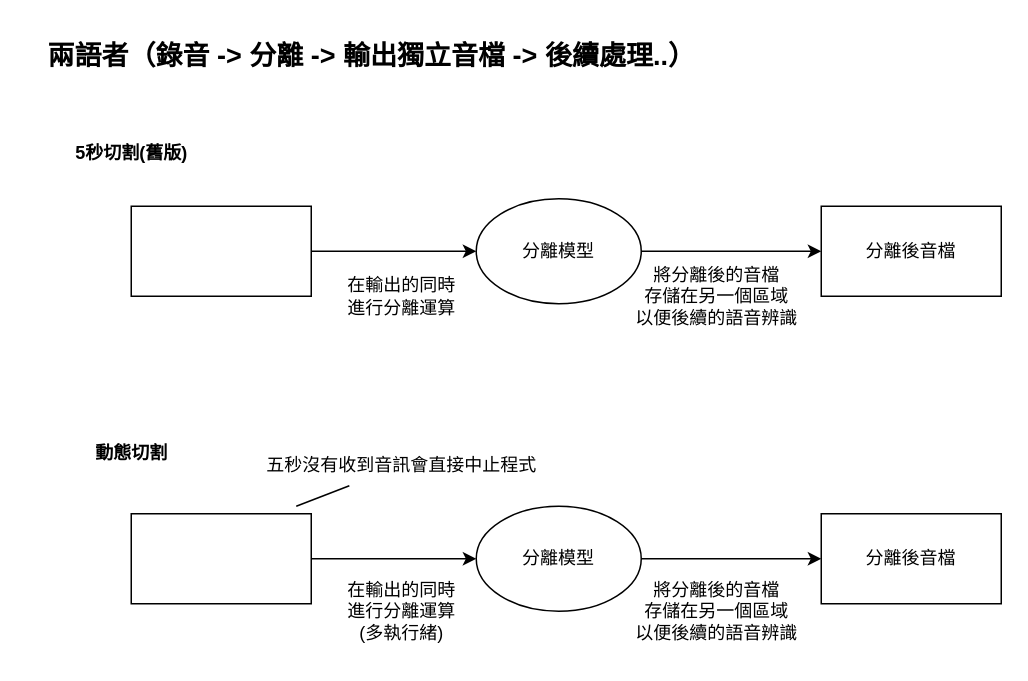
Some shapes in this 1028 by 681 pixel diagram are drawn without their labels. Here are the shapes that lost their labels. From the top down, the centre of each, then its label:
At [220,250]: "原始音訊 (每5秒輸出一個)".
At [220,558]: "原始音訊 (以間隔切割，即1.5秒沒有收到音訊即切割)".
